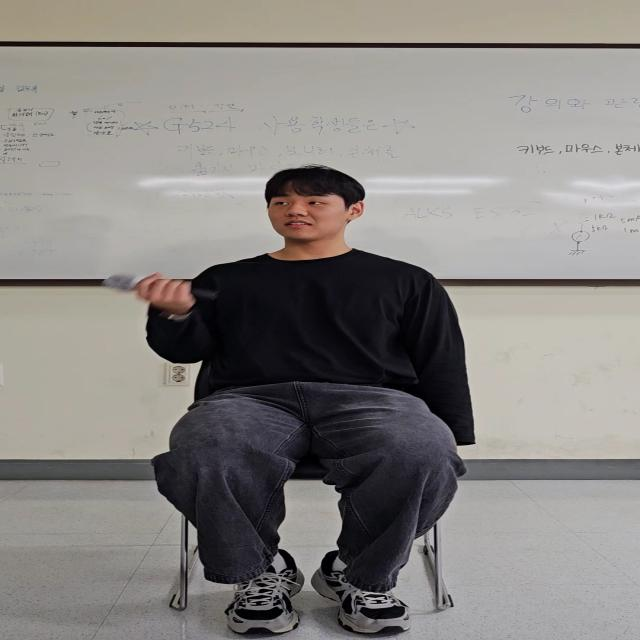curl: (115, 248, 261, 379)
